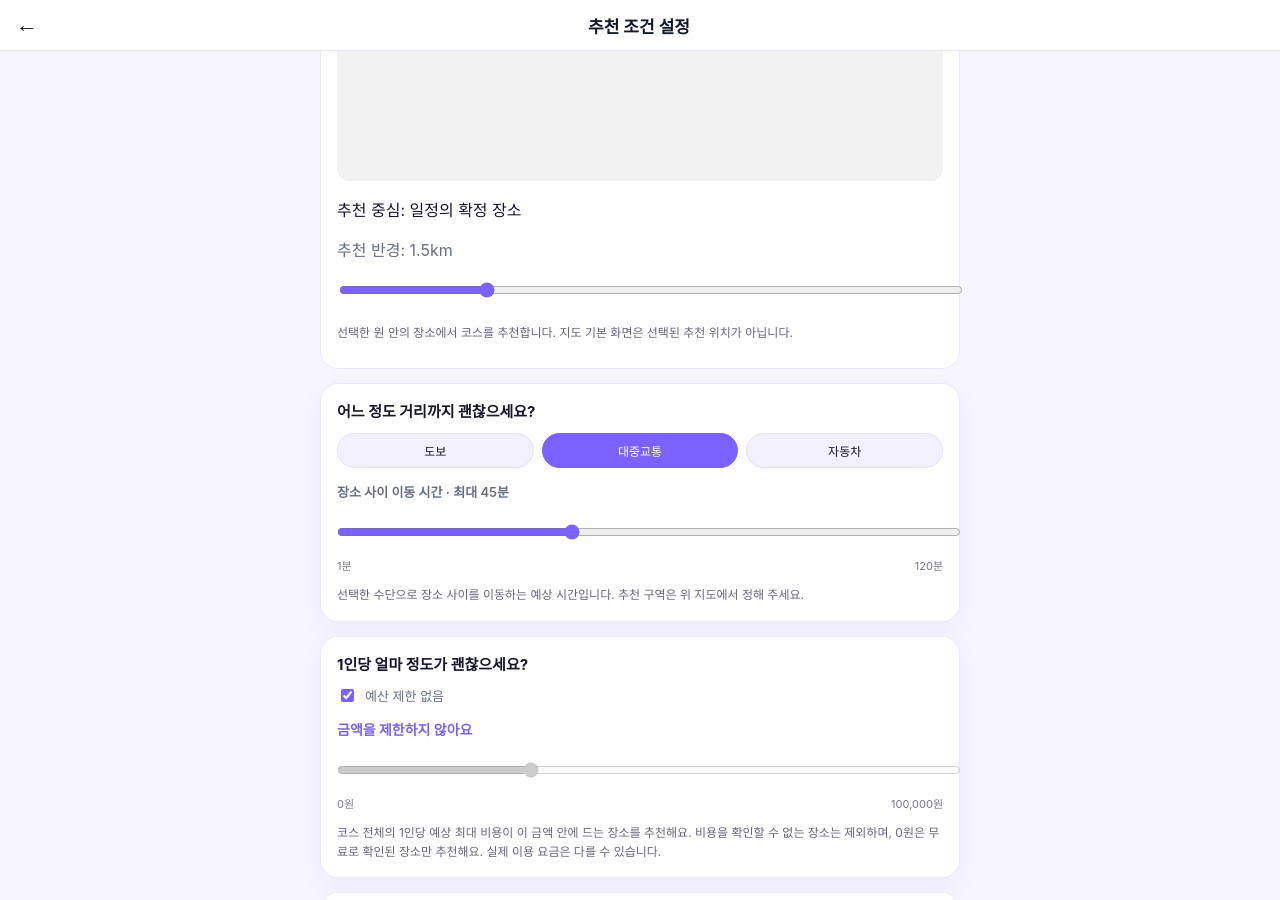
이동 버튼과 예산 슬라이더 값을 저장·전달하고 기존 평점과 우선순위를 유지
The image size is (1280, 900).
Later steps or results of the test are not shown.
(page scrolled)
Step 1. Click the button "도보" → {"x": 435, "y": 451}, box [337, 433, 534, 468]
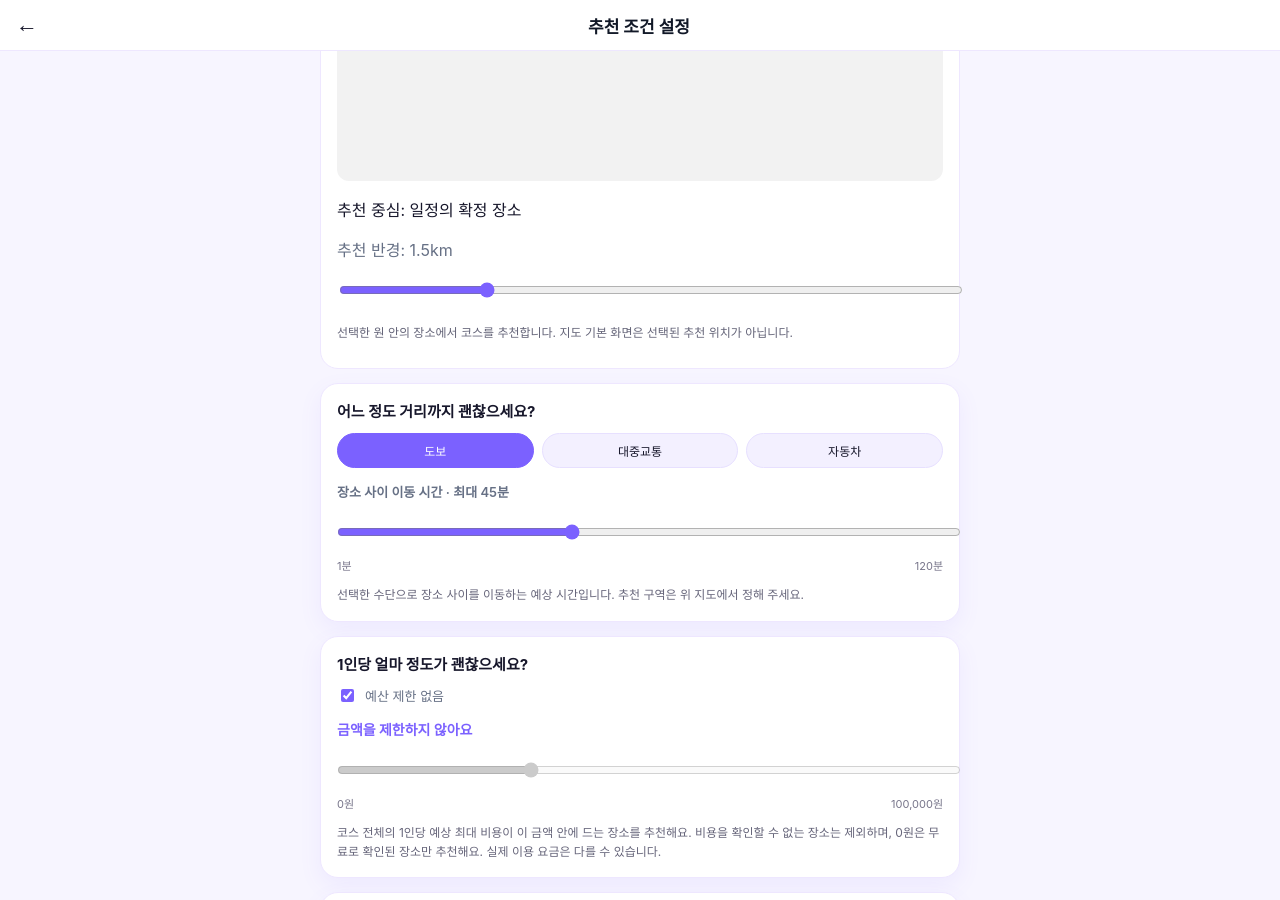
expect the button "도보" is pressed: met, box [337, 433, 534, 468]
Step 2. Set the slider named "장소 사이 최대 이동 시간" to "20" → {"x": 442, "y": 532}, box [337, 515, 961, 549]
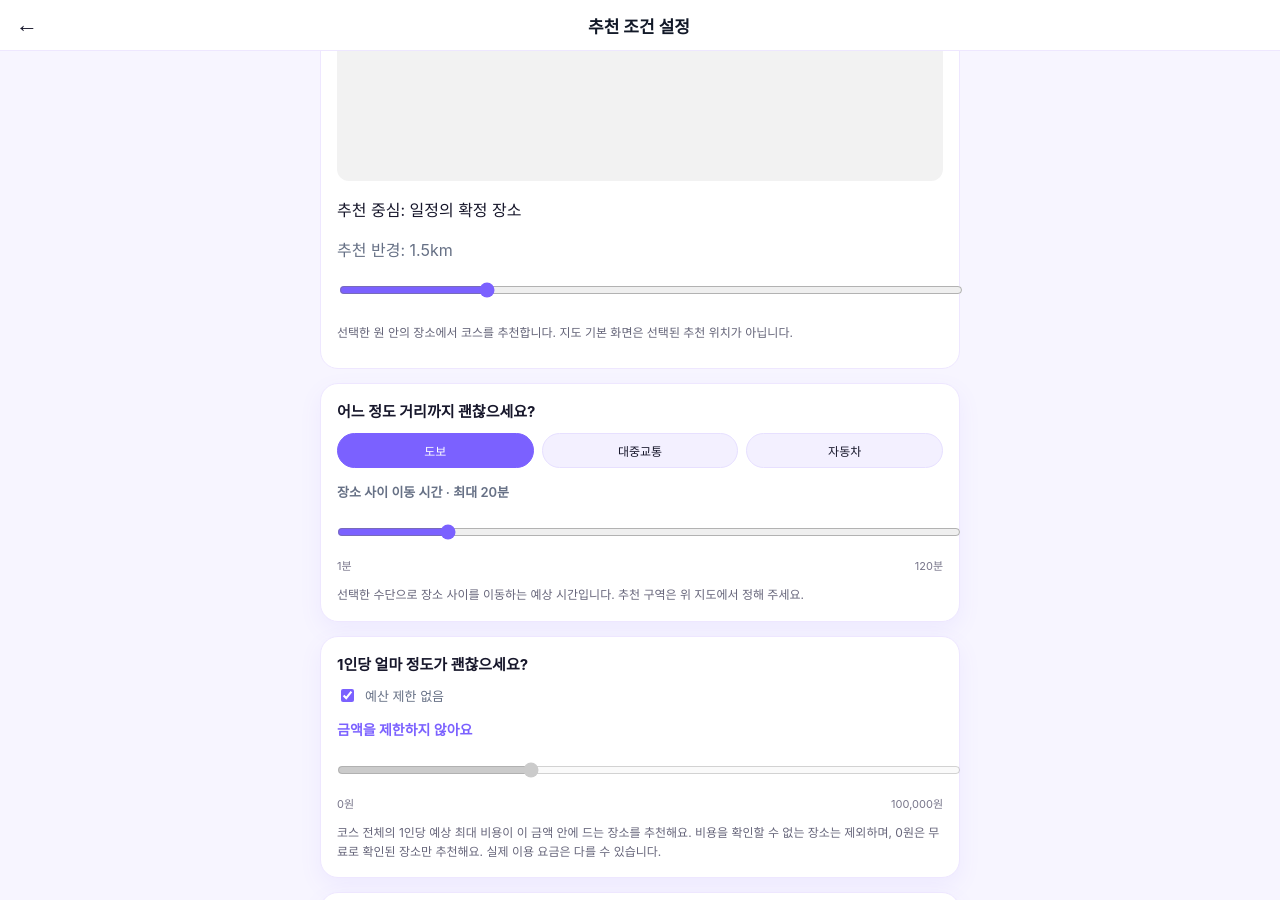
expect the slider named "1인당 최대 예산" is disabled: met, box [337, 752, 961, 786]
Step 3. Click the checkbox labelled "예산 제한 없음" → {"x": 348, "y": 695}, box [341, 688, 354, 702]
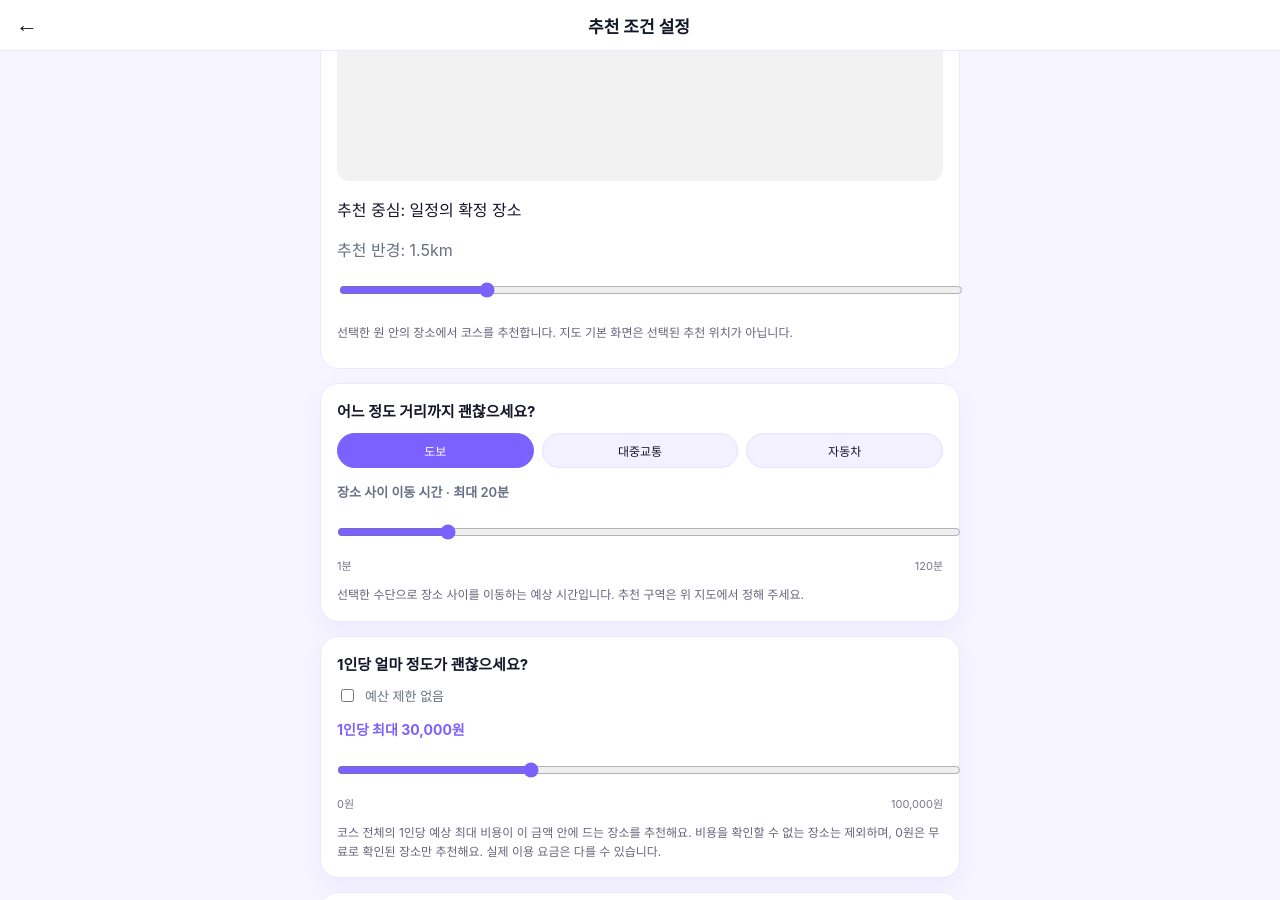
Step 4. Set the slider named "1인당 최대 예산" to "25000" → {"x": 497, "y": 770}, box [337, 752, 961, 786]
(page scrolled)
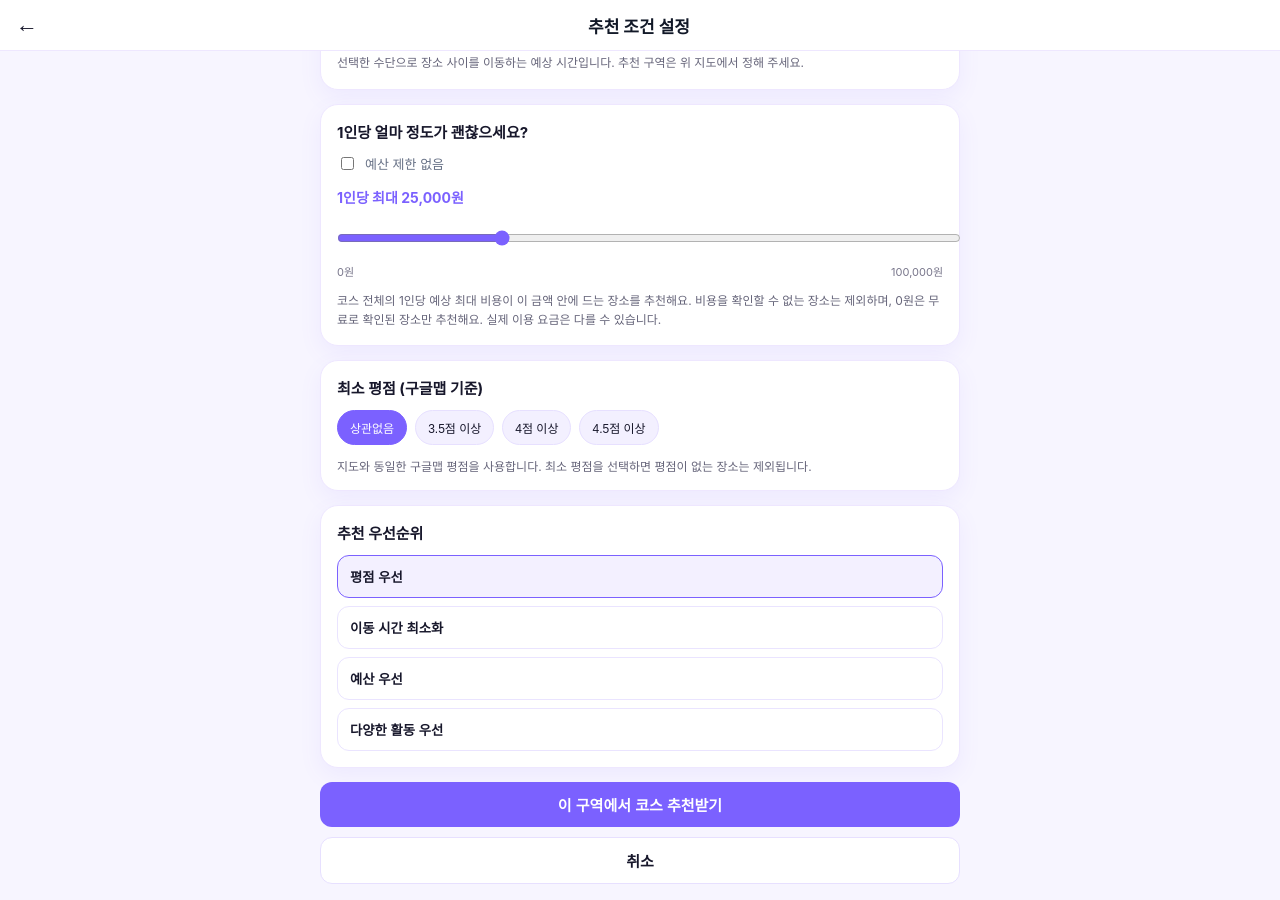
expect the text "1인당 최대 25,000원" is shown: met, box [337, 188, 464, 206]
